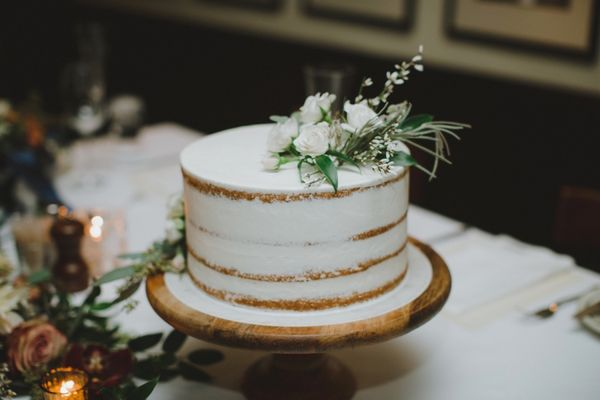curry: (14, 201, 599, 393)
sushi: (157, 119, 422, 326)
